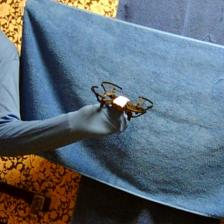drone: (90, 81, 154, 123)
